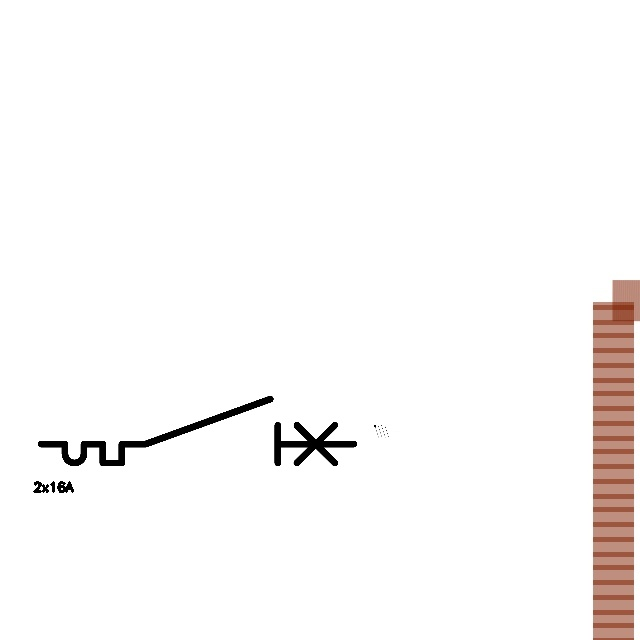interruptor_termomagnetico: (33, 391, 362, 471)
